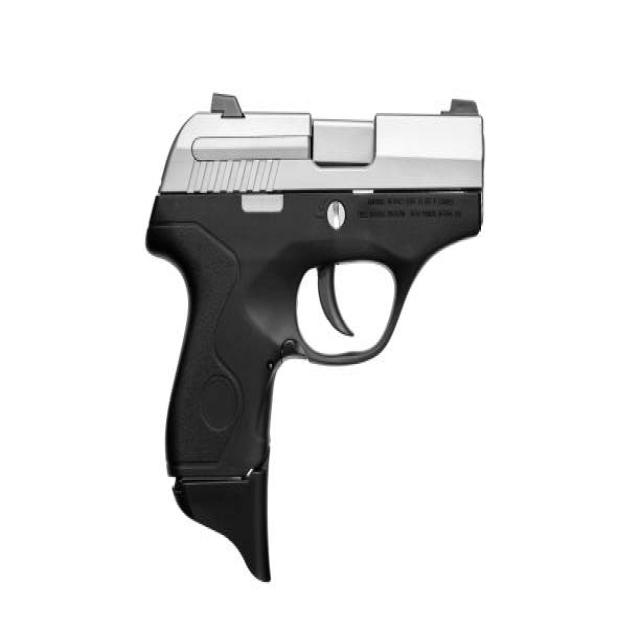pistol: (142, 88, 494, 592)
